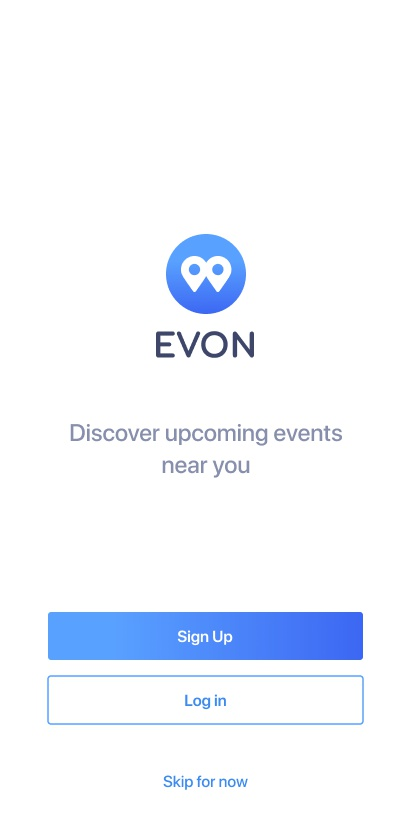Image: (166, 234, 247, 315)
Text: (70, 423, 343, 479), (156, 330, 255, 359), (163, 774, 249, 791)
TextButton: (48, 674, 365, 725), (49, 612, 364, 661)
